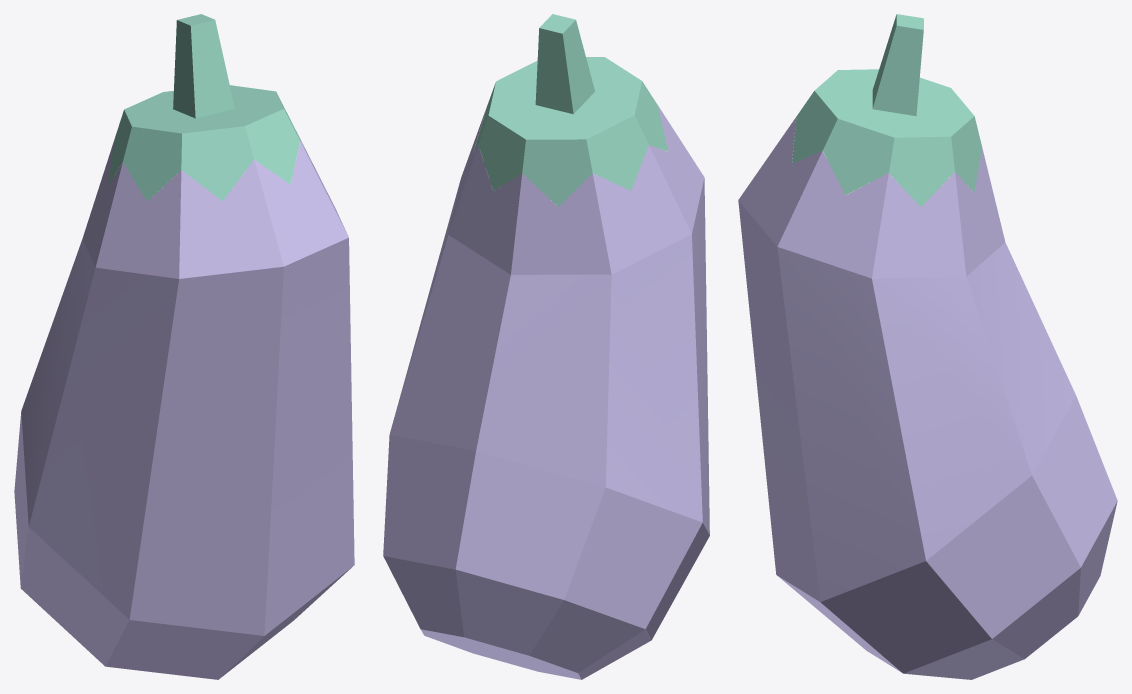
The model's file is eggplant.glb.
The picture shows the model from 3 angles, left to right: view 1: azimuth 30°, elevation 25°; view 2: azimuth 150°, elevation 25°; view 3: azimuth 270°, elevation 25°; orthographic projection. The views are drawn at different scales.
Parts seen in each view (by area): view 1: eggplant; view 2: eggplant; view 3: eggplant.
Boxes of the visible parts, bbox=[...] form: eggplant: bbox=[14, 14, 354, 679]; eggplant: bbox=[383, 14, 709, 679]; eggplant: bbox=[738, 14, 1117, 679].
Bounding box in the file's own units: 0.204 × 0.4052 × 0.2156.
